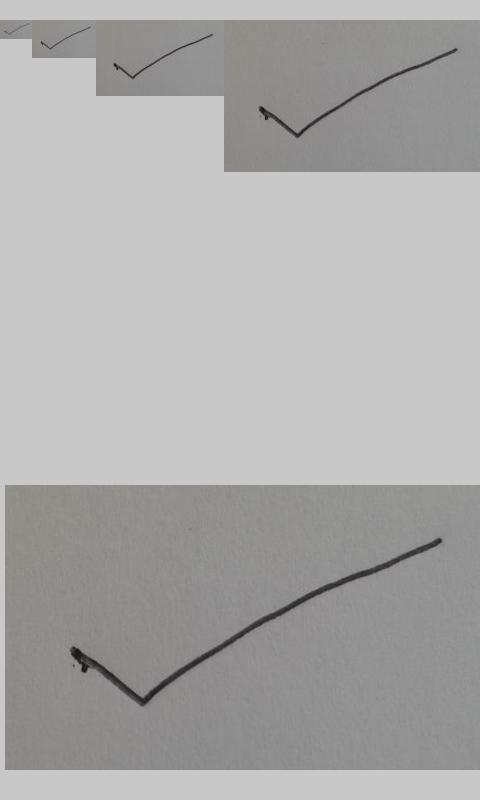check_box: (72, 539, 440, 708), (259, 48, 457, 139), (113, 34, 212, 79), (40, 27, 91, 50), (4, 23, 28, 36)
